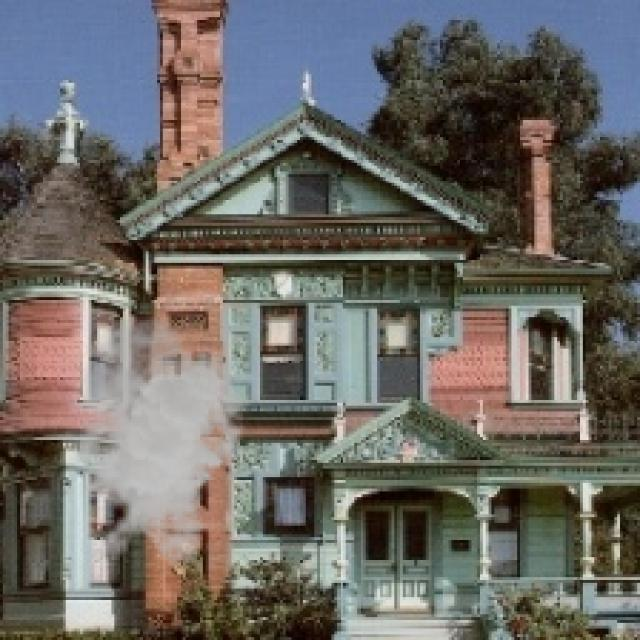Smoke: (48, 314, 252, 569)
